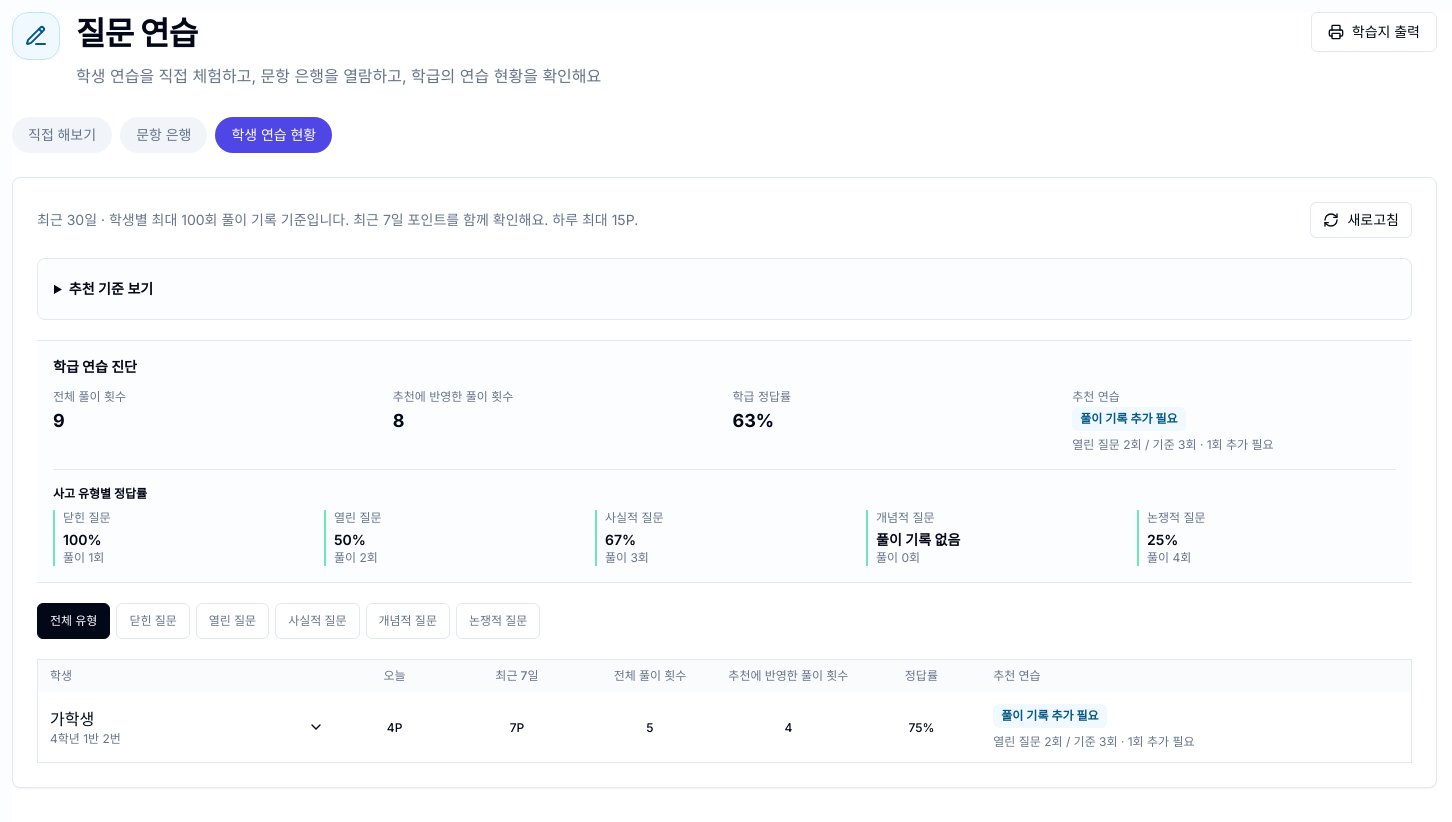
Test: 교사 학급 연습 진단 › 학급 요약을 표시하고 학생 한 행을 펼쳐 모드와 유형별 진단을 보여 준다
The width and height of the screenshot is (1452, 822).
Expected: the text "학급 정답률" is shown, [732,389,791,404]
Expected: the text "63%" is shown, [732,410,774,431]
Click the button "가학생 4학년 1반 2번". click: click(72, 719)
box: [50,705,324,749]
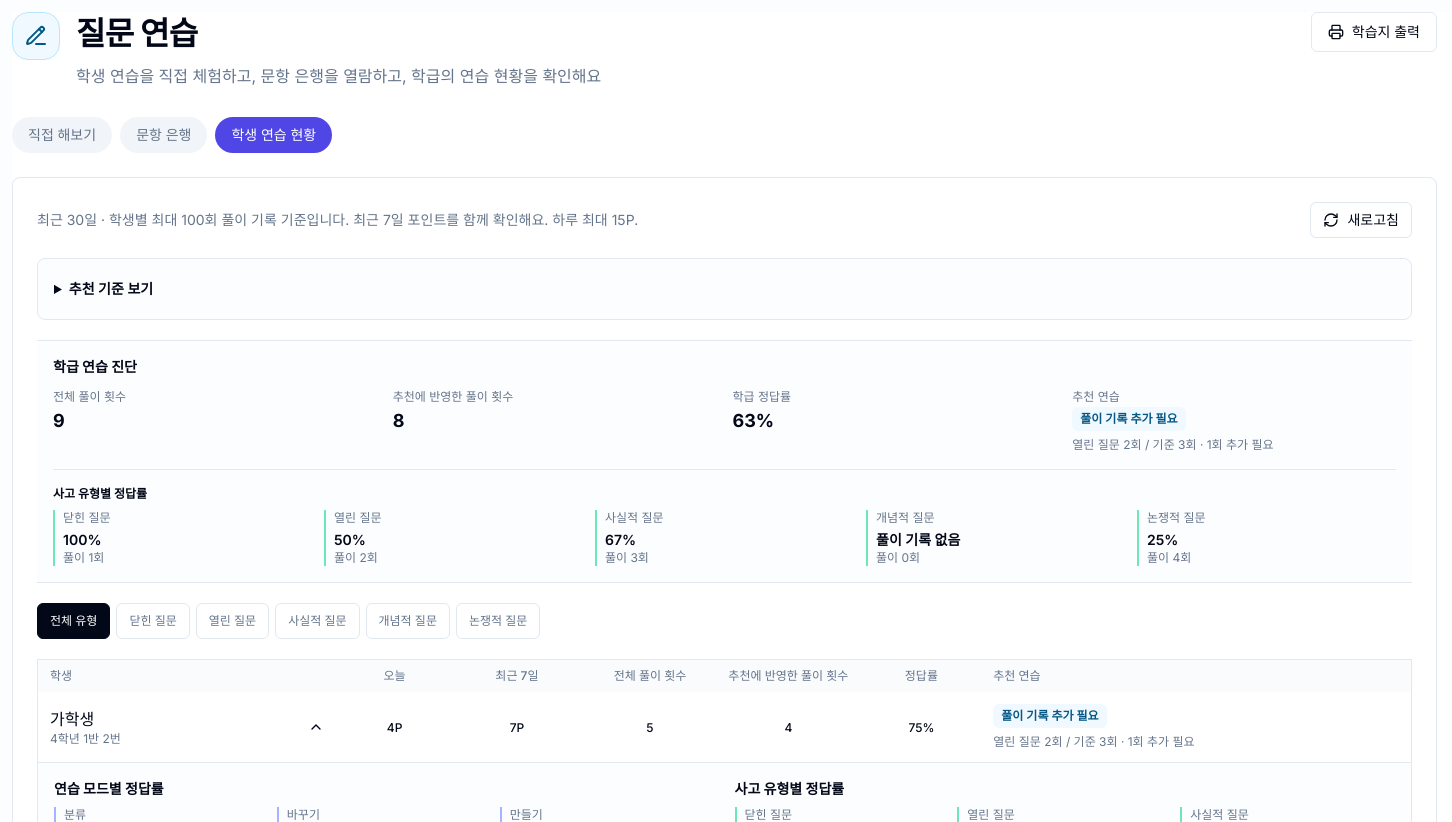
Now the button "가학생 4학년 1반 2번" is expanded, box [50,705,324,749]
Now the heading "연습 모드별 정답률" is shown, box [54,780,164,797]
Now the heading "사고 유형별 정답률" in the row of "연습 모드별 정답률" is shown, box [734,780,844,797]
